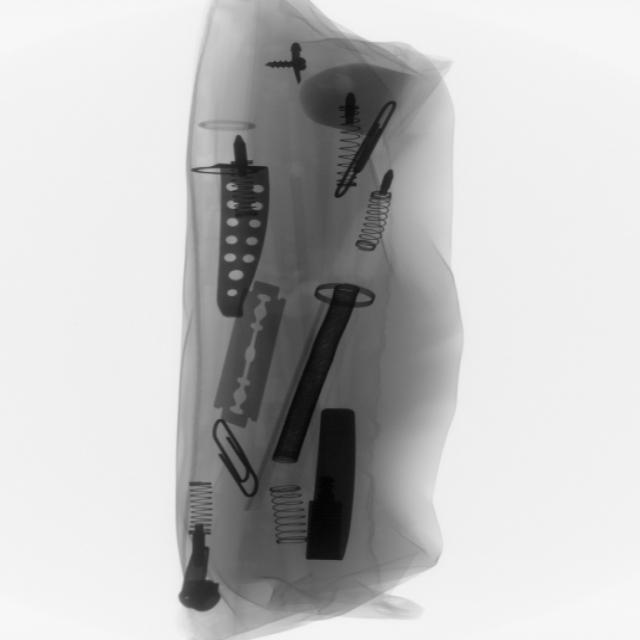BLADE: (213, 283, 288, 435)
